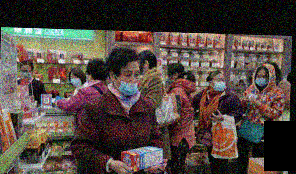mask_weared_incorrect: (114, 67, 139, 97)
with_mask: (211, 76, 227, 92), (254, 72, 270, 88), (18, 67, 33, 80), (164, 70, 174, 86), (69, 74, 80, 87)
